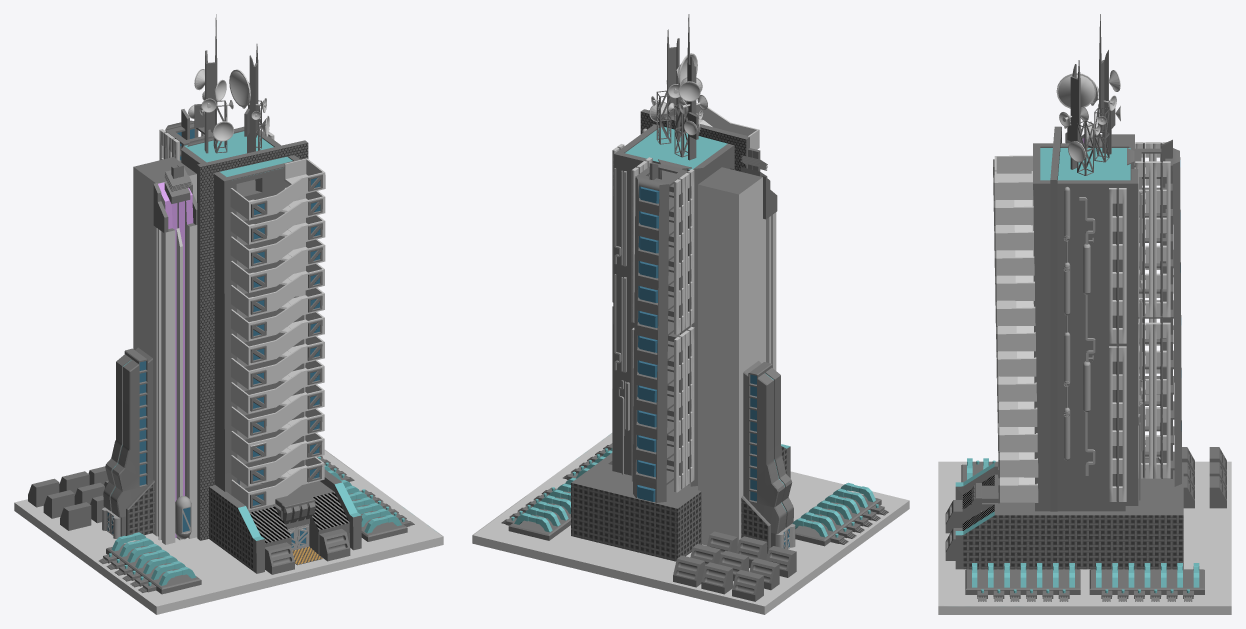
Rendered from SM_Building_01_SM_B_1_Door.fbx.
3 views of the same model, side by side, from view 1: azimuth 30°, elevation 25°; view 2: azimuth 150°, elevation 25°; view 3: azimuth 270°, elevation 25° (orthographic). The views are drawn at different scales.
Parts seen in each view (by area): view 1: SM_Building_01_SM_B_1_Door; view 2: SM_Building_01_SM_B_1_Door; view 3: SM_Building_01_SM_B_1_Door.
Boxes of the visible parts, x1,y1,x2,y2 form: SM_Building_01_SM_B_1_Door: (14, 14, 443, 614); SM_Building_01_SM_B_1_Door: (472, 14, 909, 614); SM_Building_01_SM_B_1_Door: (938, 14, 1231, 614).
Bounding box in the file's own units: 3452 × 2962 × 5853.
Materials: 1 (1 with a texture image).
